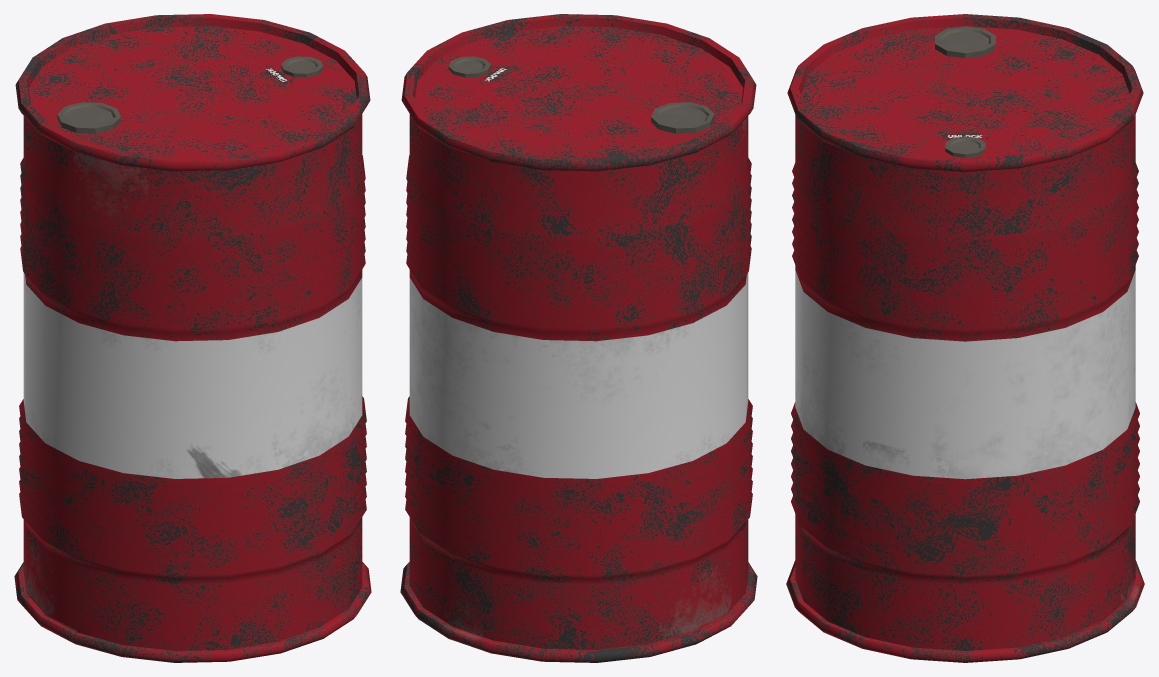
3 views of the same model, side by side, from view 1: azimuth 30°, elevation 25°; view 2: azimuth 150°, elevation 25°; view 3: azimuth 270°, elevation 25° (orthographic).
Visible parts, largest first — view 1: Barril.014; view 2: Barril.014; view 3: Barril.014.
Boxes of the visible parts, x1,y1,x2,y2 form: Barril.014: [14, 14, 371, 662]; Barril.014: [400, 14, 757, 662]; Barril.014: [786, 14, 1144, 662].
Size of the model in its own units: 2.11 by 3.25 by 2.11.
Materials: 3 (3 with a texture image).
